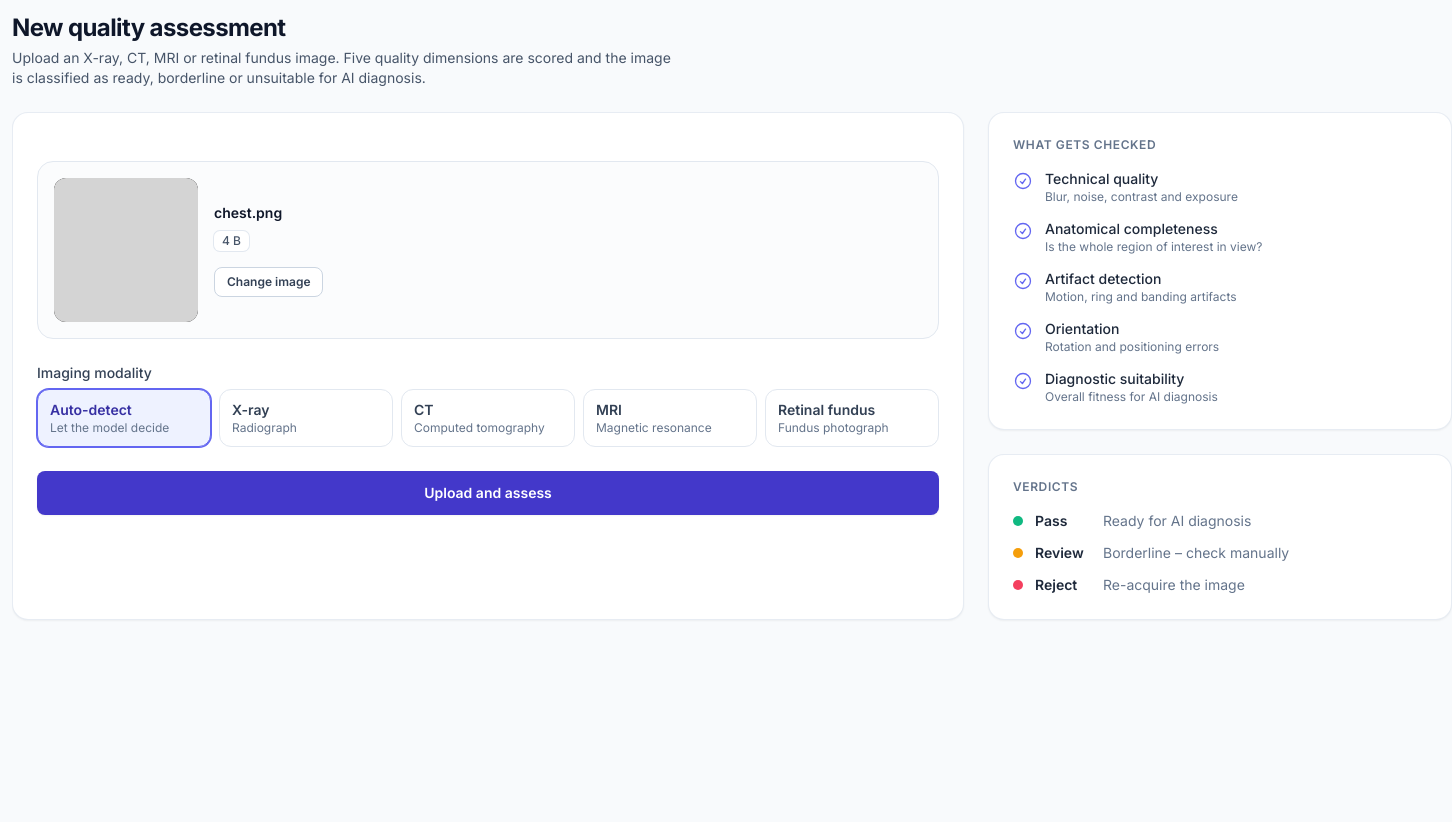
Scenario: UploadPage › uploads, assesses and redirects to the results (TC-05)
Earlier steps of the test are not shown.
expect the text "chest.png" is shown: met, box x1=214 y1=204 x2=282 y2=221
Click the radio button labelled "X-ray Radiograph".
click(306, 418)  # box x1=219 y1=389 x2=393 y2=447
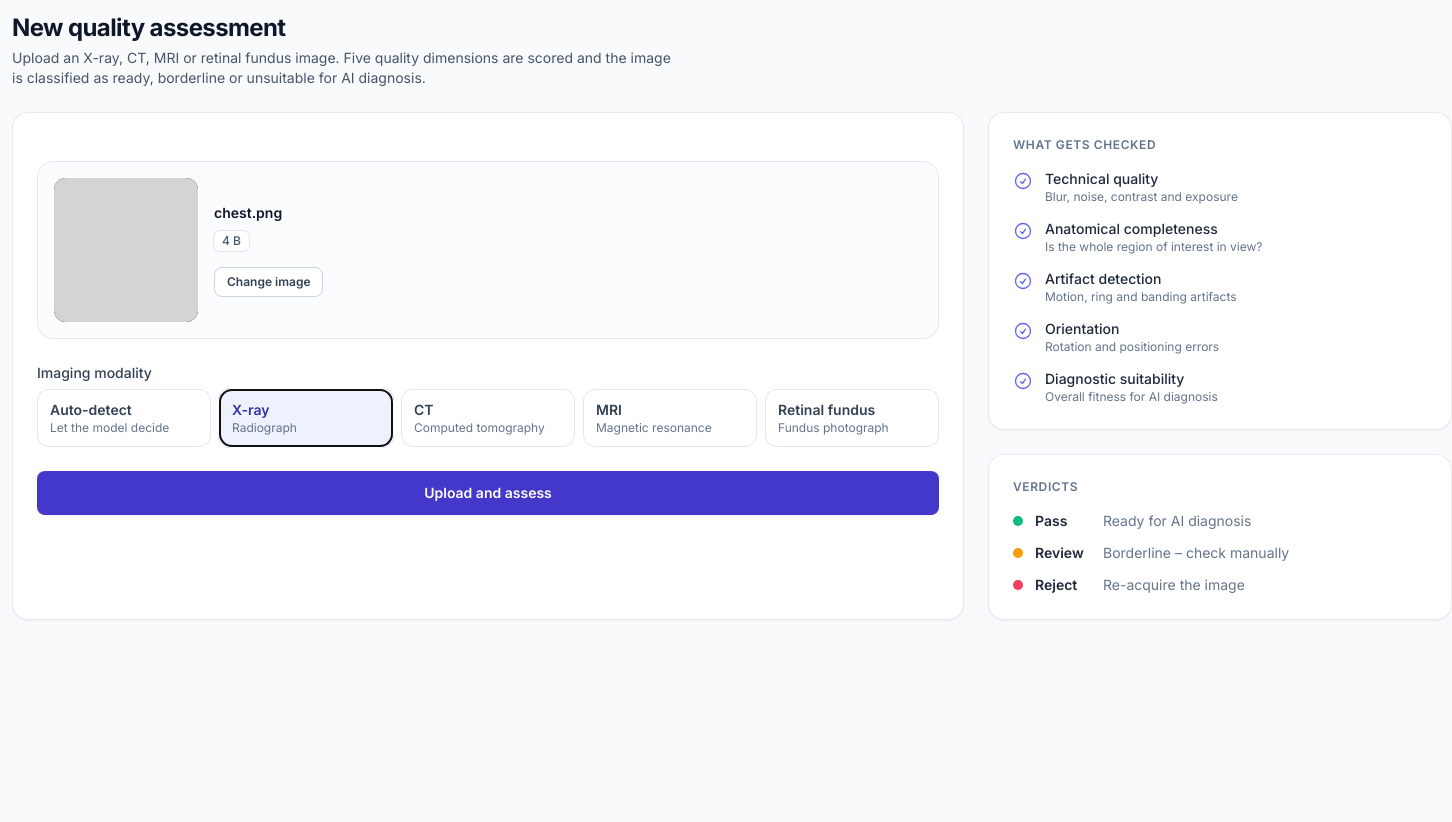
expect the radio button labelled "X-ray Radiograph" is checked: met, box x1=219 y1=389 x2=393 y2=447
Click the button "Upload and assess".
click(488, 493)  # box x1=37 y1=471 x2=939 y2=515
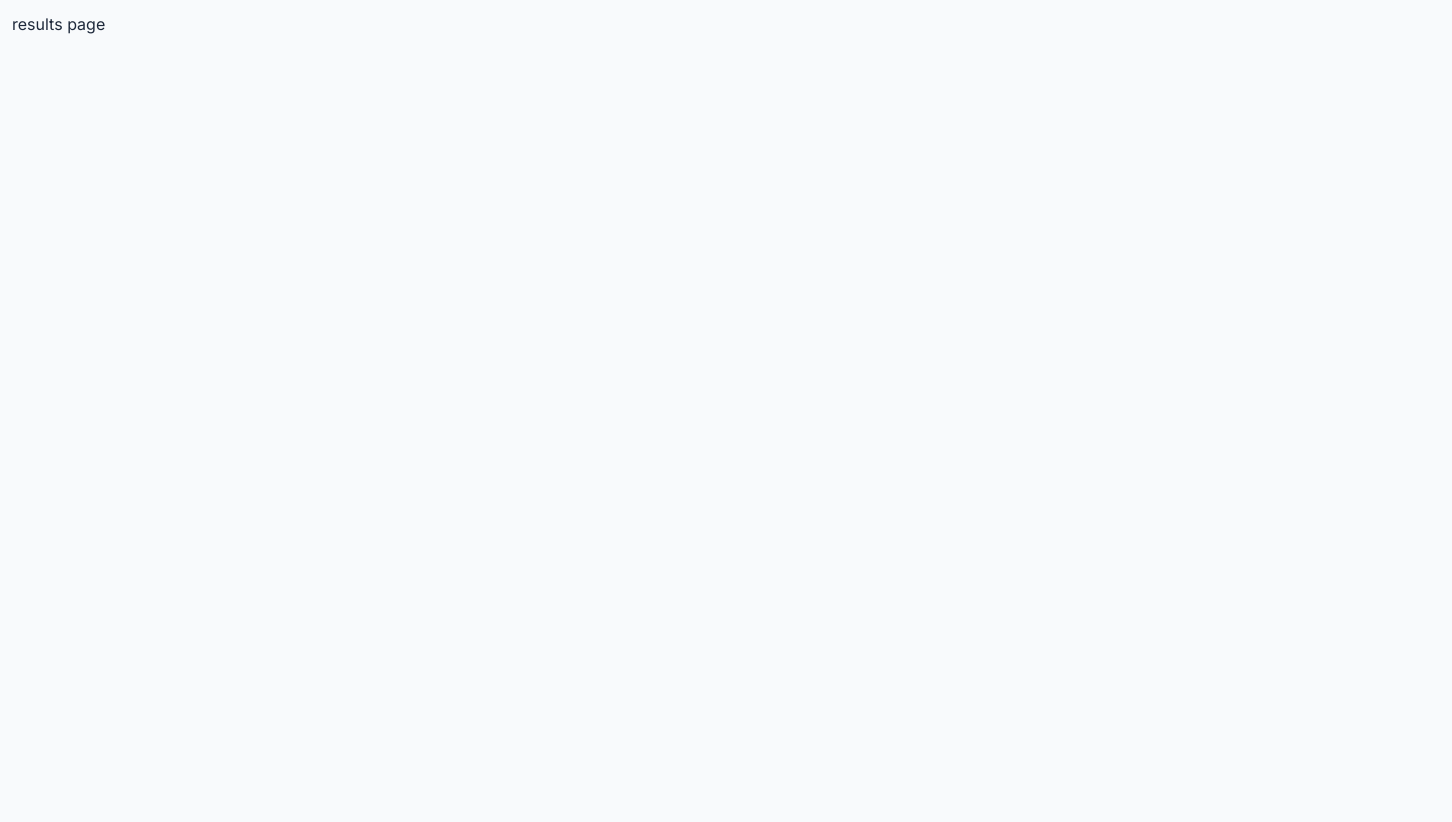
expect the text "results page" is shown: met, box x1=12 y1=14 x2=105 y2=34
